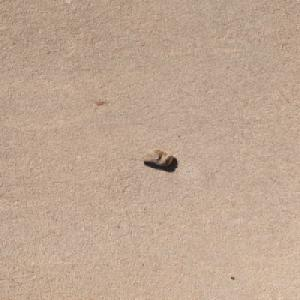Rock: (137, 148, 174, 166)
